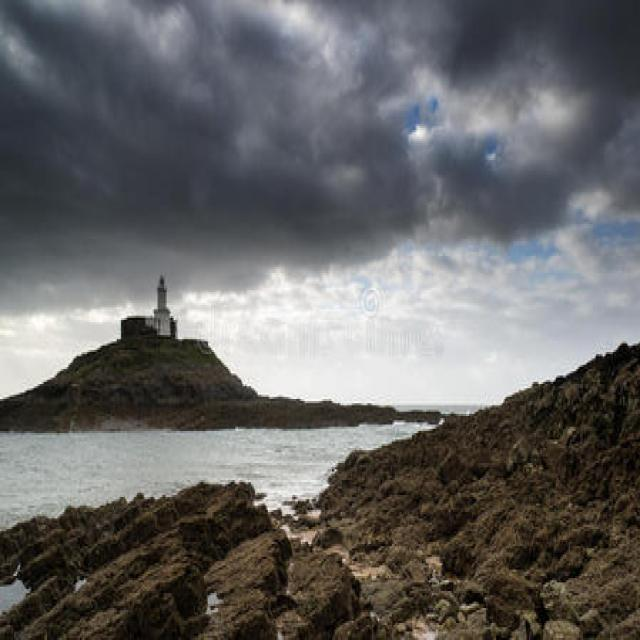island: (0, 253, 403, 441)
